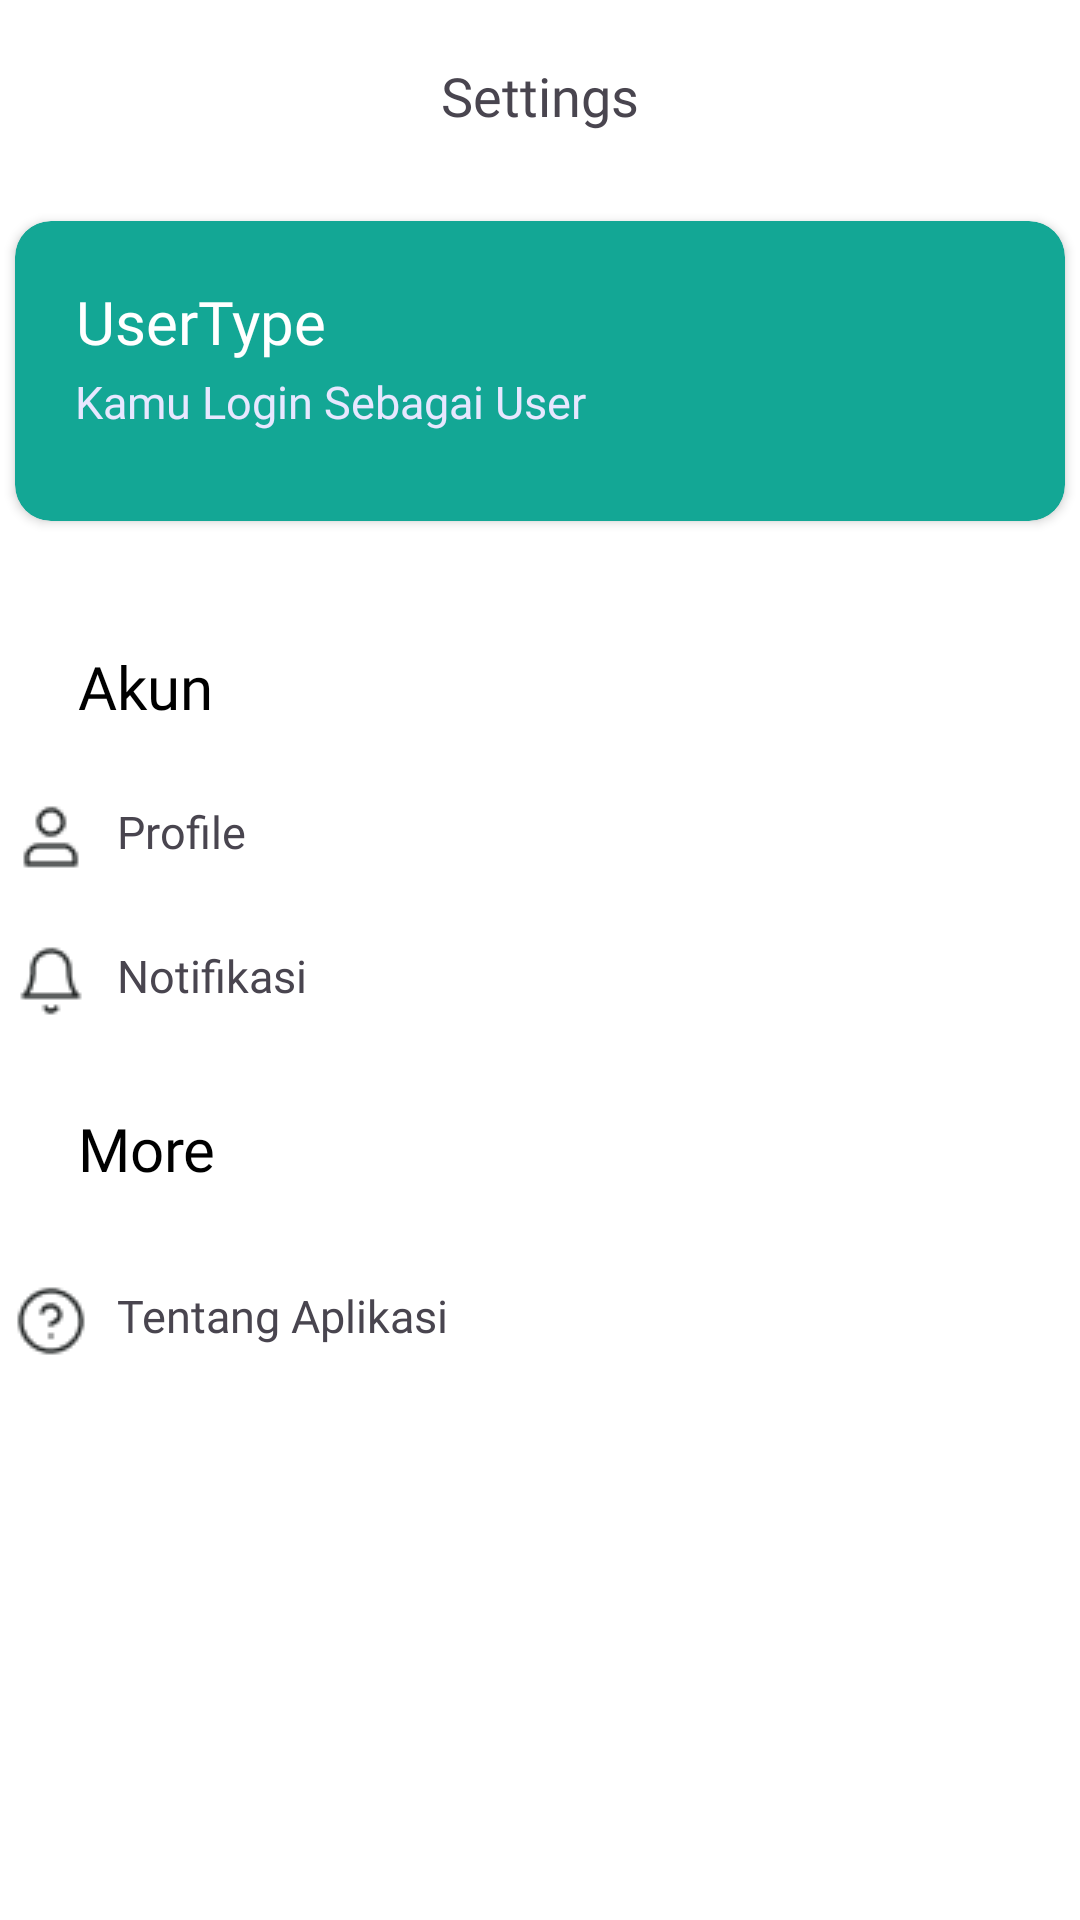

Where icons sit on this 1080 x 1920 app screen, as (x1, y1, x2, y2):
help: (17, 1287, 85, 1355)
